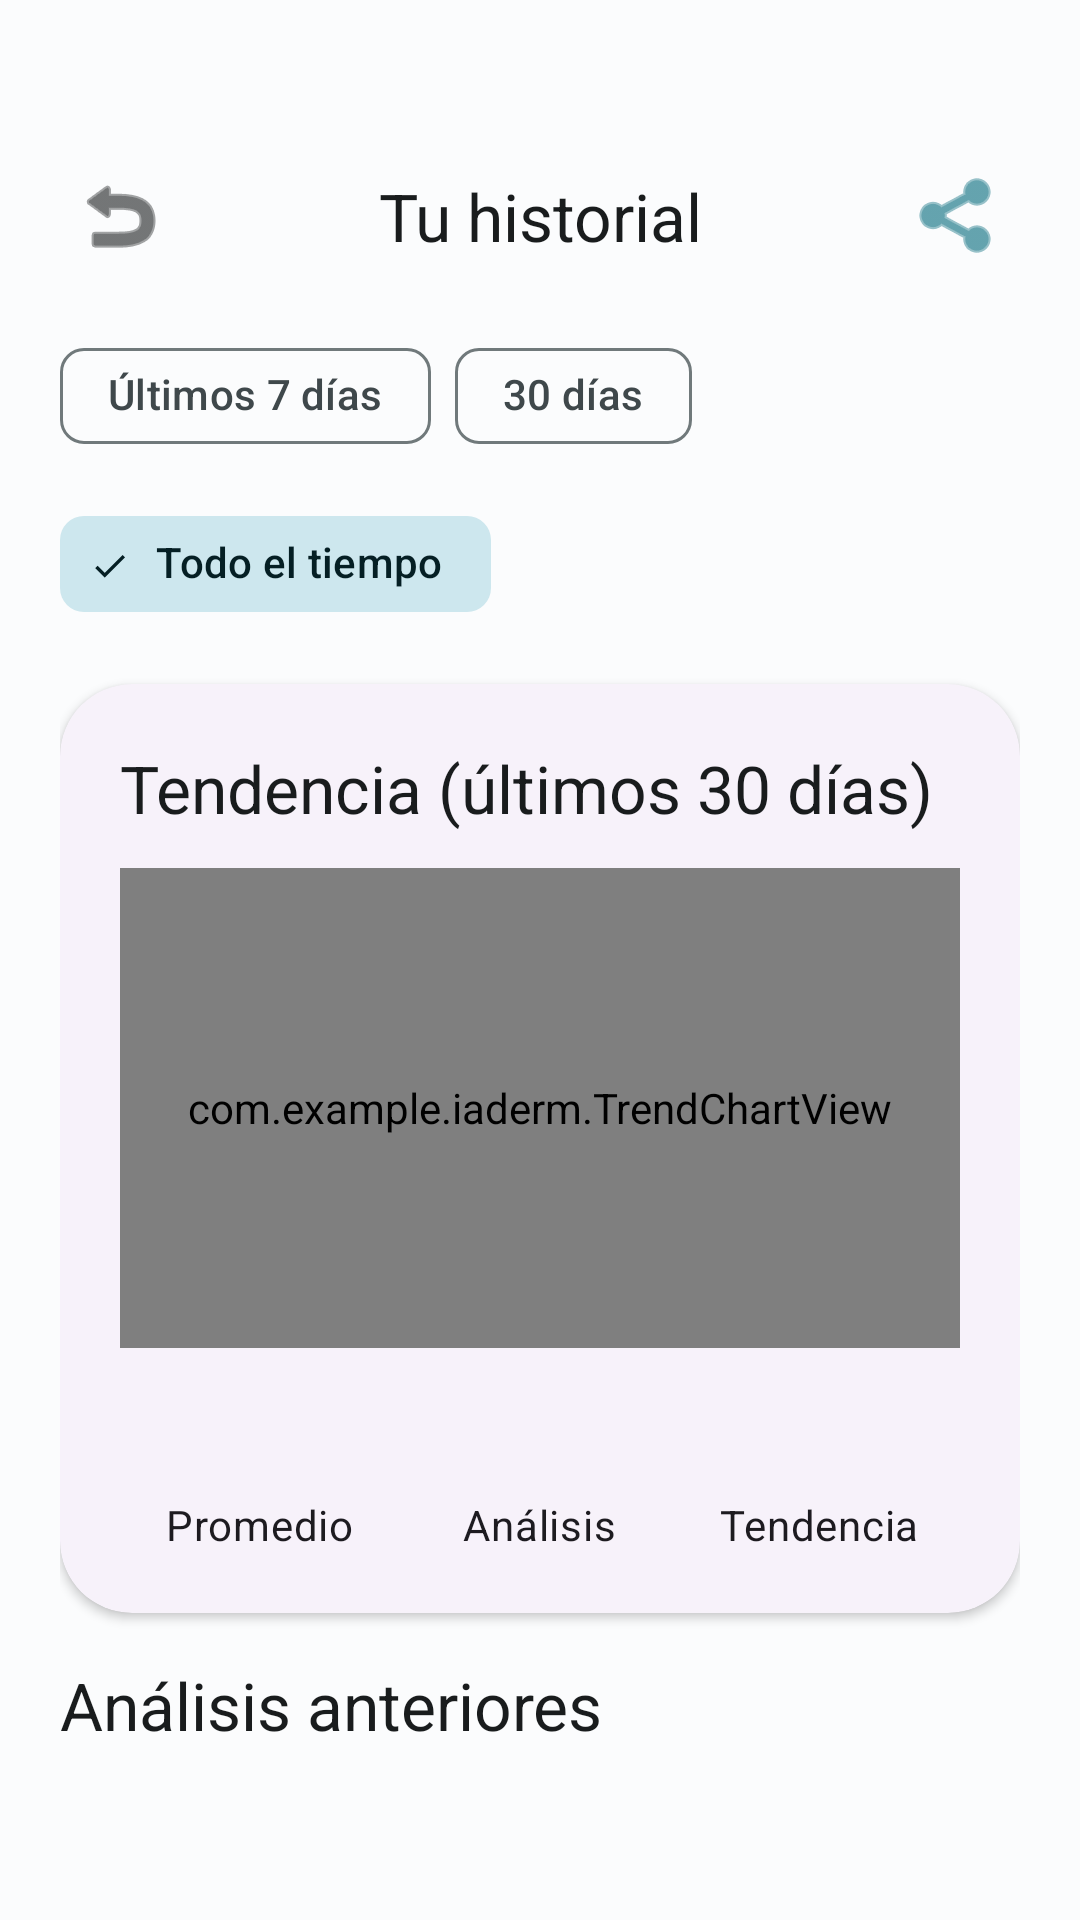

Named icons in this screenshot (1080px×1920px) and their centers, point (x, y):
Volver: point (121, 216)
